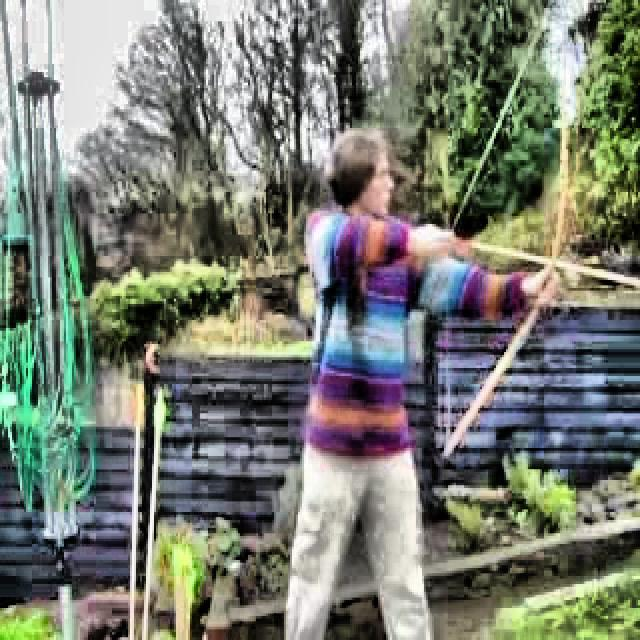I: (287, 101, 570, 640)
